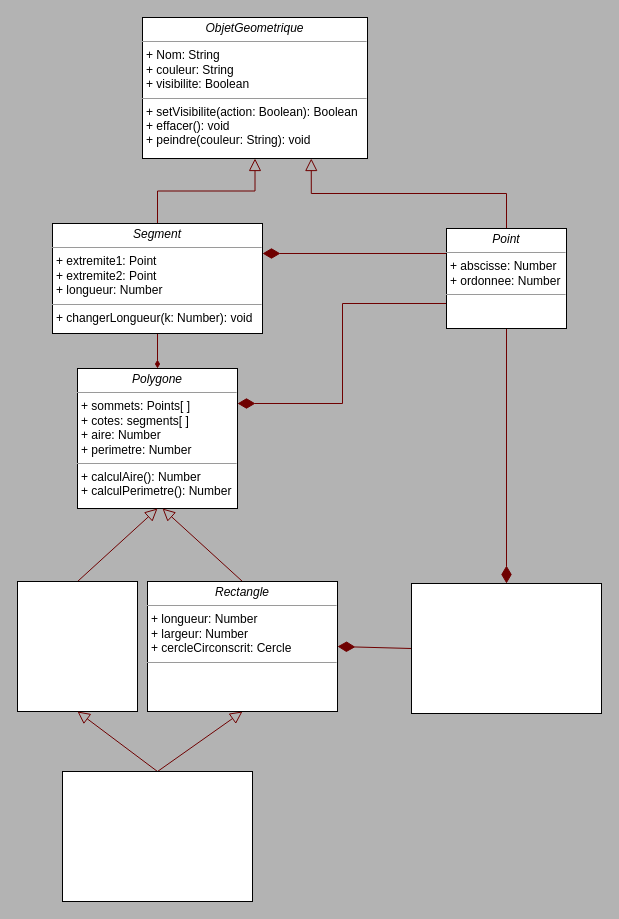
This 619x919 diagram has some shape labels left out. The centre of each missing label's shape, as x and y in pixels:
"Carre" belongs at point (157, 836).
"Cercle + centre: Point + rayon: Number + aire: Number + longueur: longueur" belongs at point (506, 648).
"Losange + longueur: Number" belongs at point (77, 646).
